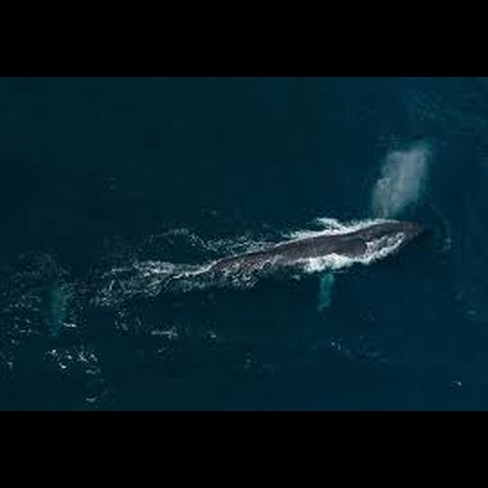bluewhale: (145, 213, 418, 318)
